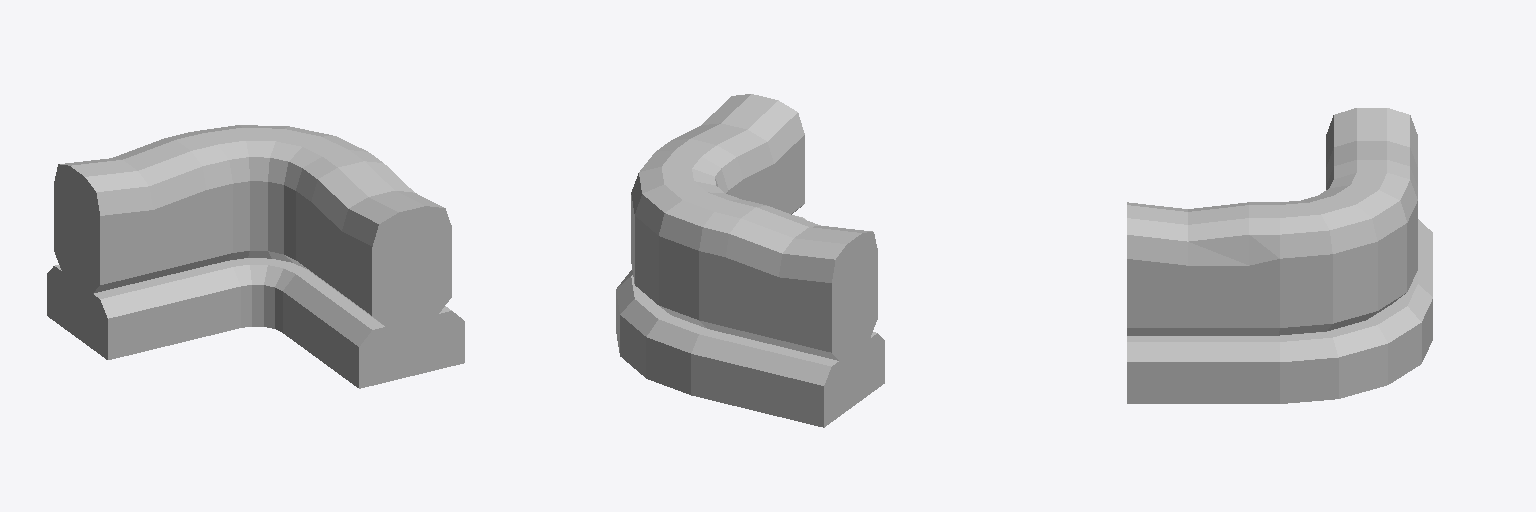
File: hedge-large-curved.obj
3 renders of one model, left to right at view 1: azimuth 30°, elevation 25°; view 2: azimuth 150°, elevation 25°; view 3: azimuth 270°, elevation 25°, orthographic.
Parts seen in each view (by area): view 1: hedge-large-curved; view 2: hedge-large-curved; view 3: hedge-large-curved.
Boxes of the visible parts, x1=… form: hedge-large-curved: x1=47, y1=125, x2=464, y2=388; hedge-large-curved: x1=616, y1=94, x2=884, y2=427; hedge-large-curved: x1=1127, y1=108, x2=1432, y2=403.
Bounding box in the file's own units: 1 × 0.6 × 1.